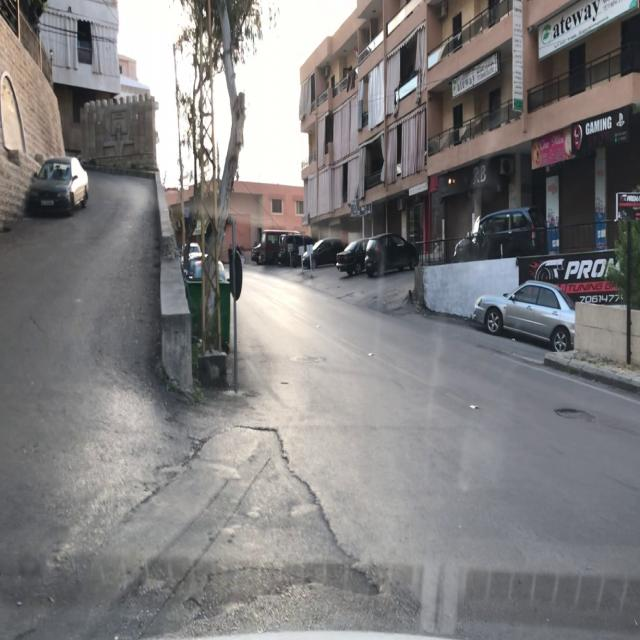Pothole: (552, 406, 600, 425)
